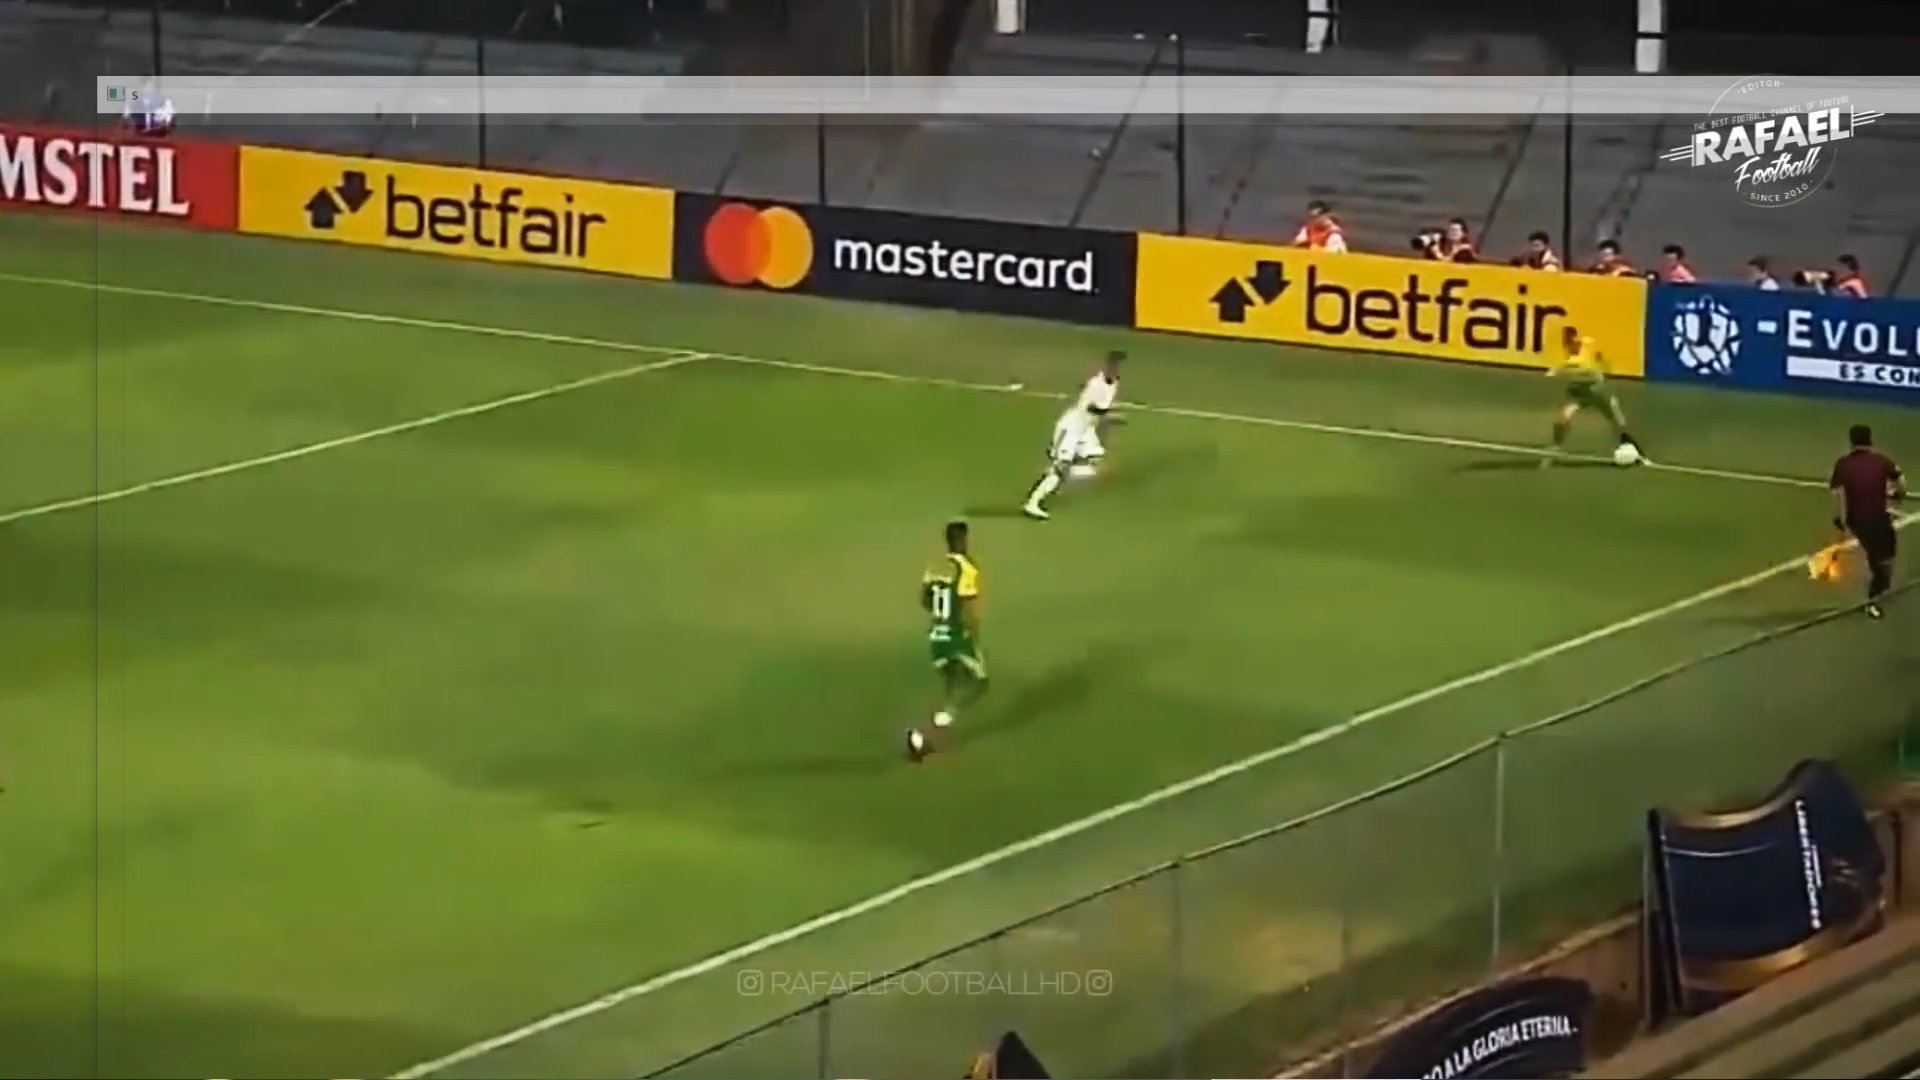ft: (1610, 443, 1638, 468)
